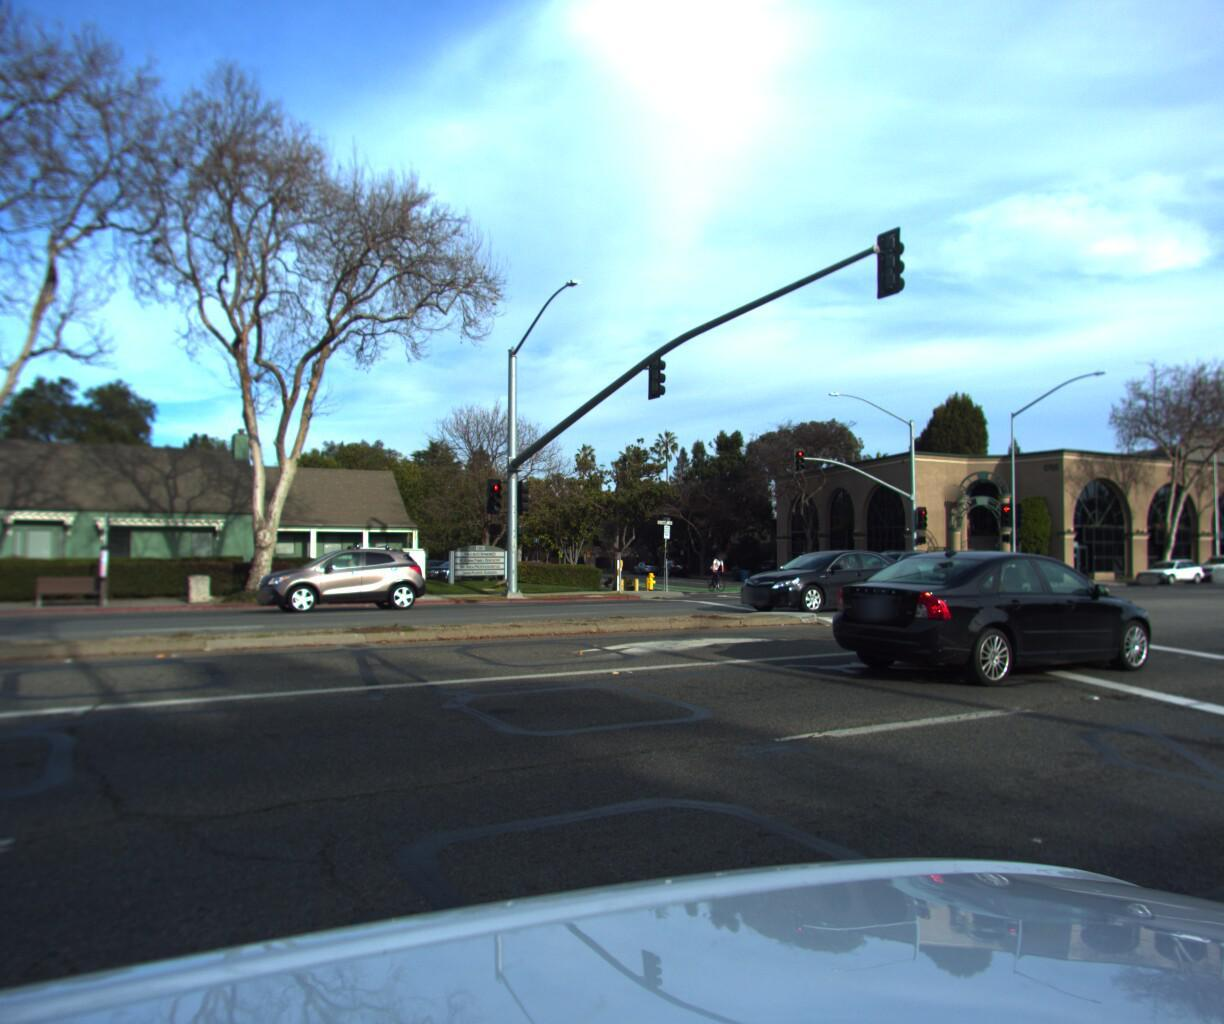car: (808, 541, 1160, 692), (726, 537, 927, 619), (247, 541, 439, 613), (822, 546, 951, 591), (1126, 553, 1203, 585), (1180, 549, 1224, 581), (753, 557, 797, 577), (656, 556, 687, 575), (632, 558, 658, 575)
